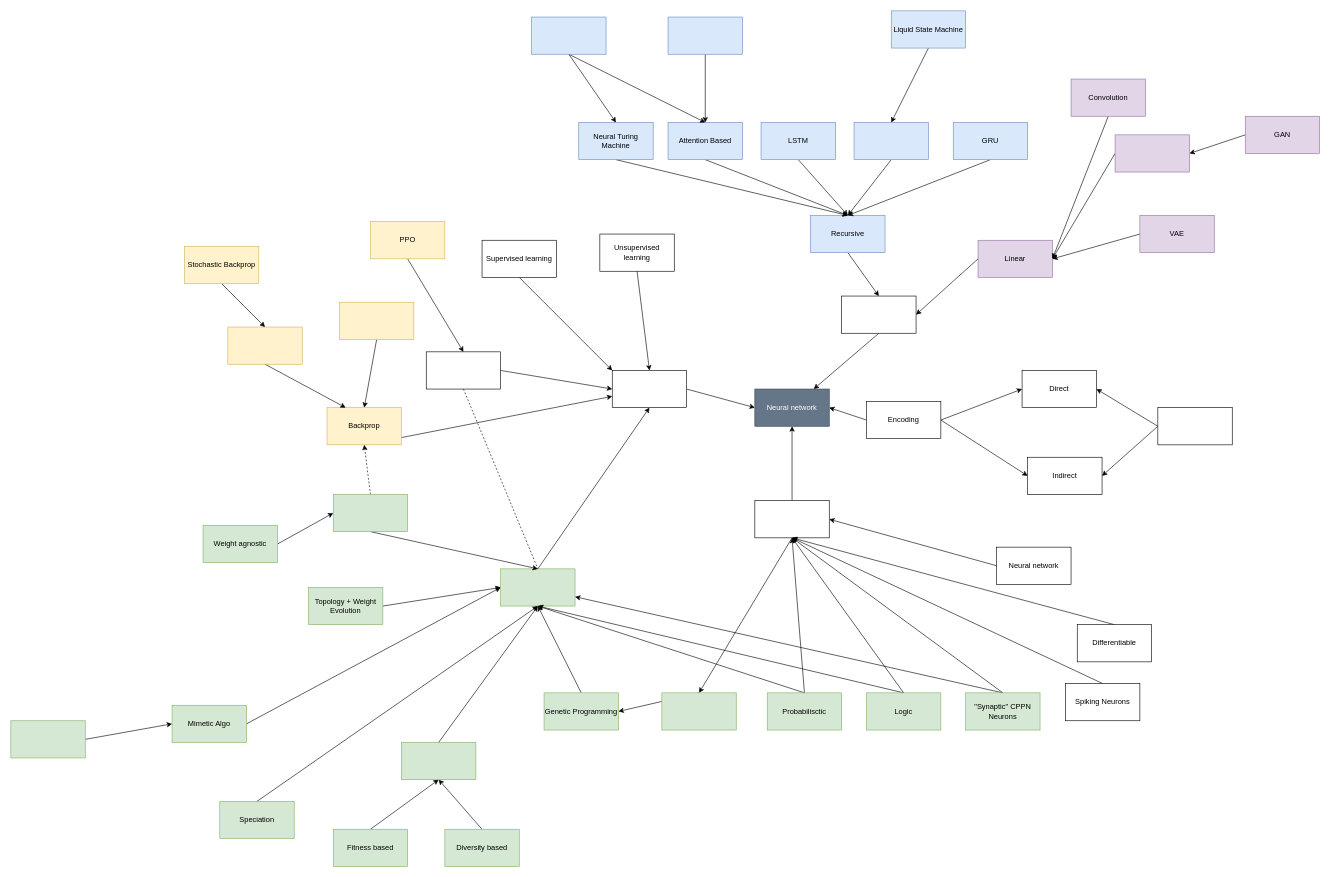
This 1331x877 diagram has some shape labels left out. The shapes that lost their labels are listed below. From the top down, each one's centre as x and y in pixels, then its label:
At (568,35): "NTM with attention".
At (704,35): "Transformers".
At (890,141): "Reservoir computing".
At (1151,153): "Classifier".
At (376,320): "Recurrent Backprop".
At (878,314): "Models".
At (264,345): "Static Backprop".
At (463,370): "Reinforcement learning".
At (649,389): "Training".
At (1194,426): "Semi-indirect".
At (370,513): "Topology Evolution".
At (791,519): "Nodes".
At (537,587): "Evolution".
At (698,711): "Function nodes".
At (47,739): "Prunning Algo".
At (438,761): "Strategy".
